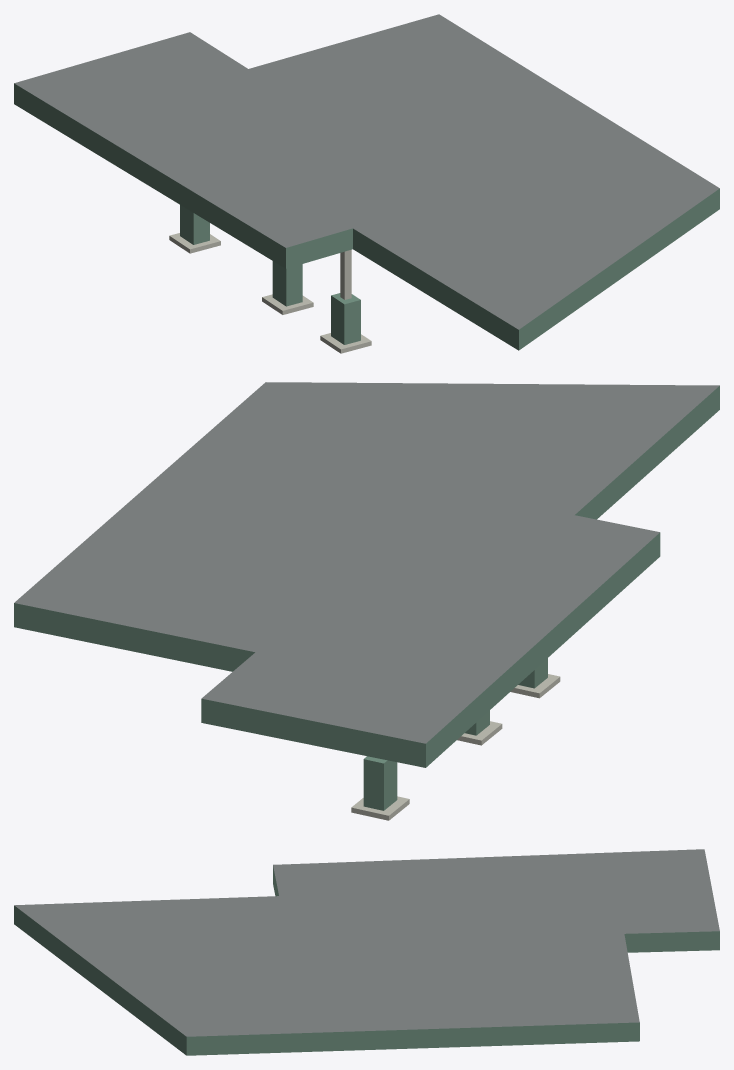
File: hills-canopy.glb
3 views of the same model, one above another, from view 1: azimuth 30°, elevation 25°; view 2: azimuth 150°, elevation 25°; view 3: azimuth 270°, elevation 25° (orthographic). The views are drawn at different scales.
Visible parts, largest first — view 1: Hill's filling station canopy; view 2: Hill's filling station canopy; view 3: Hill's filling station canopy.
Part boxes in pixels (x1=…): Hill's filling station canopy: x1=14, y1=14, x2=719, y2=353; Hill's filling station canopy: x1=14, y1=382, x2=719, y2=820; Hill's filling station canopy: x1=14, y1=849, x2=719, y2=1055.
Size of the model in its own units: 14.4 by 4.38 by 22.9.
